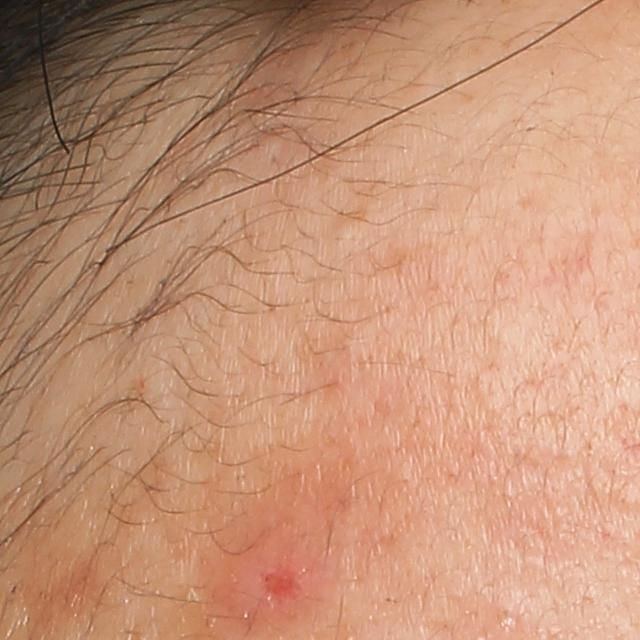comedo: (327, 212, 366, 245), (492, 612, 514, 634)
